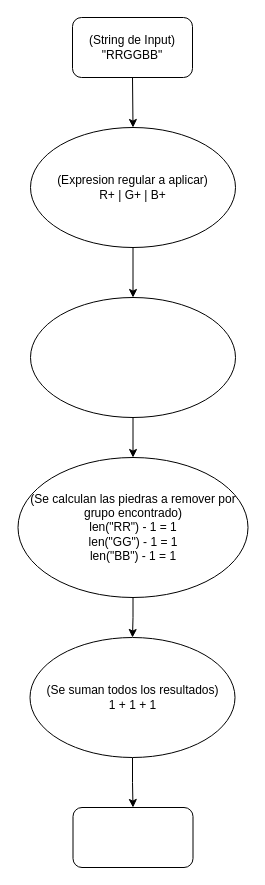
The diagram is 265 pixels wide and 885 high, and some of its shapes have lost their labels. The shapes that lost their labels are listed below. From the top down, each one's centre as x and y in pixels, then its label:
(133,357): (Se detectan grupos) "RR", "GG", "BB"
(132,837): (Num de Output) 3
